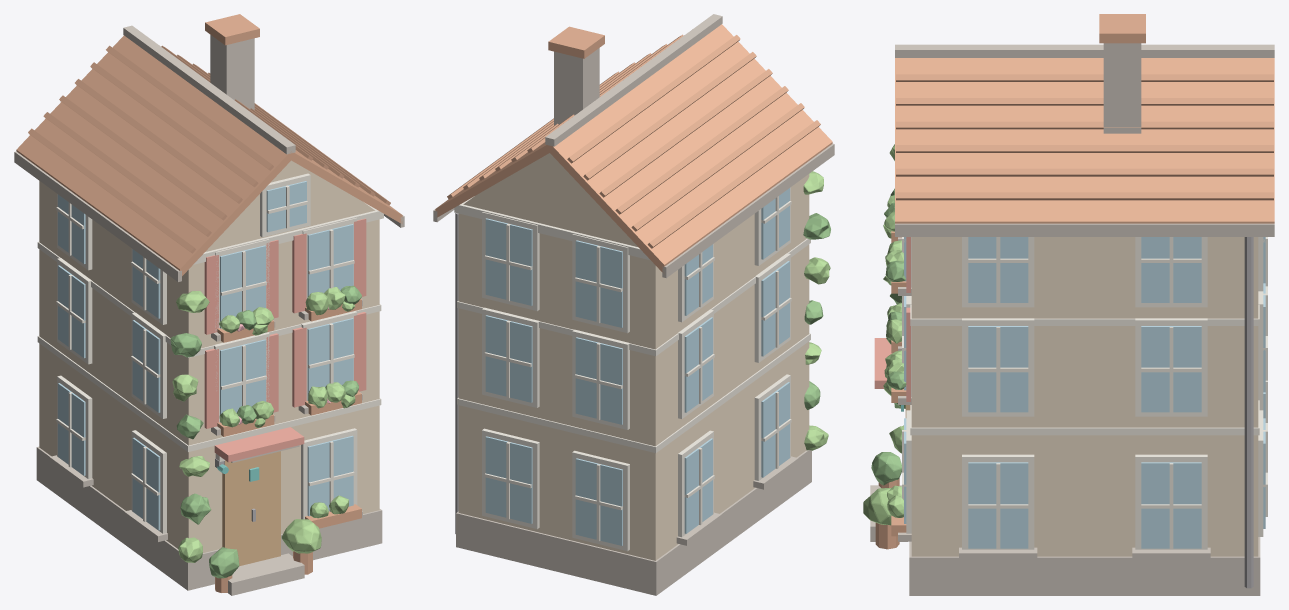
Rendered from Building_Townhouse_A.fbx.
3 views of the same model, side by side, from view 1: azimuth 30°, elevation 25°; view 2: azimuth 150°, elevation 25°; view 3: azimuth 270°, elevation 25° (orthographic). The views are drawn at different scales.
Visible parts, largest first — view 1: Building_Townhouse_A, Building_Townhouse_A_Veg; view 2: Building_Townhouse_A, Building_Townhouse_A_Veg; view 3: Building_Townhouse_A, Building_Townhouse_A_Veg.
Boxes of the visible parts, <box> form: Building_Townhouse_A: <box>14,14,404,595</box>; Building_Townhouse_A_Veg: <box>170,285,361,592</box>; Building_Townhouse_A: <box>433,14,834,595</box>; Building_Townhouse_A_Veg: <box>803,171,830,450</box>; Building_Townhouse_A: <box>870,14,1274,595</box>; Building_Townhouse_A_Veg: <box>863,144,906,549</box>.
Size of the model in its own units: 4.03 by 7.9 by 5.46.
